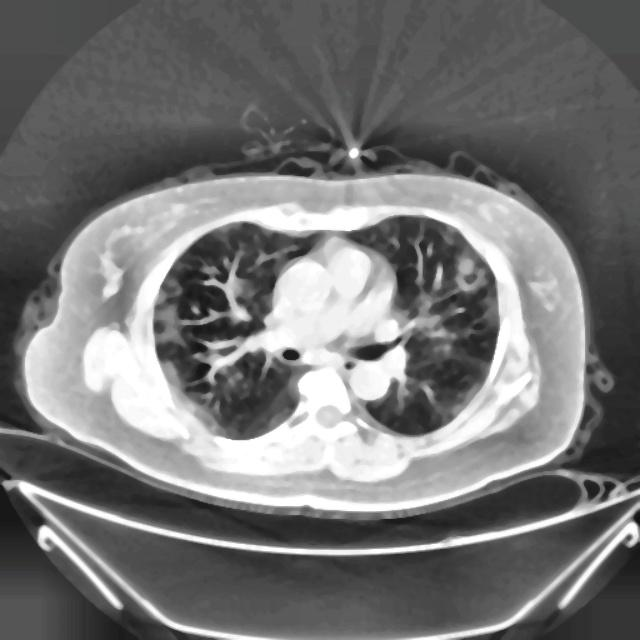covid: (13, 150, 592, 521)
